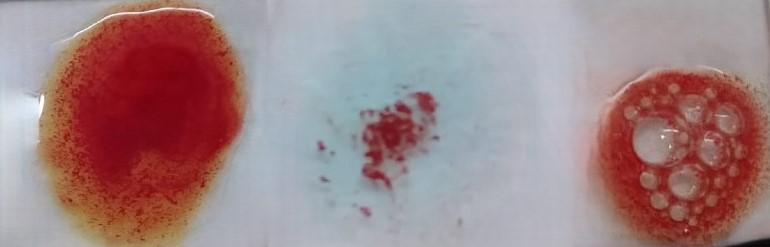A: (305, 55, 470, 242)
B: (41, 18, 239, 247)
D: (589, 63, 764, 247)
